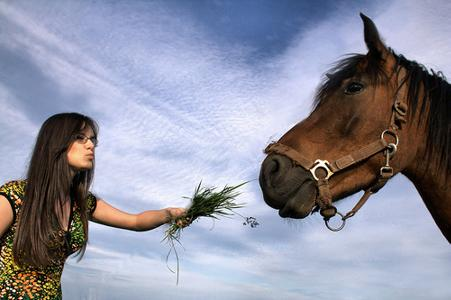person: (2, 113, 193, 300)
